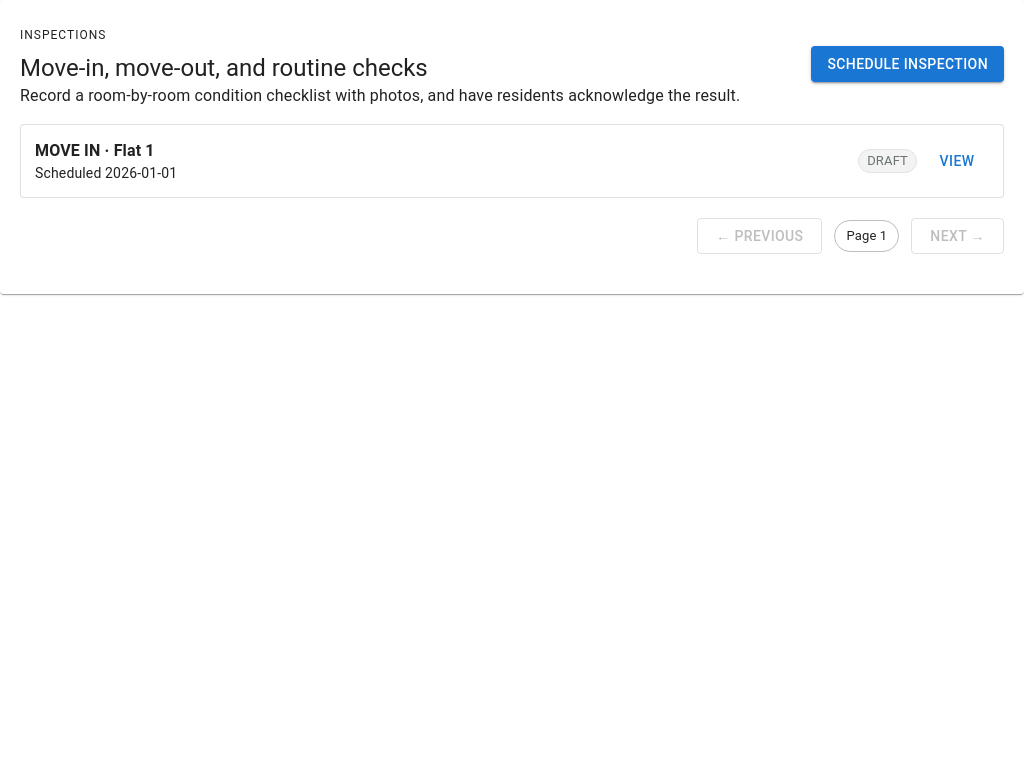
Test: will not schedule an inspection without a space or date
The width and height of the screenshot is (1024, 768).
Click the button "Schedule inspection" at (908, 64), box [811, 46, 1004, 82]
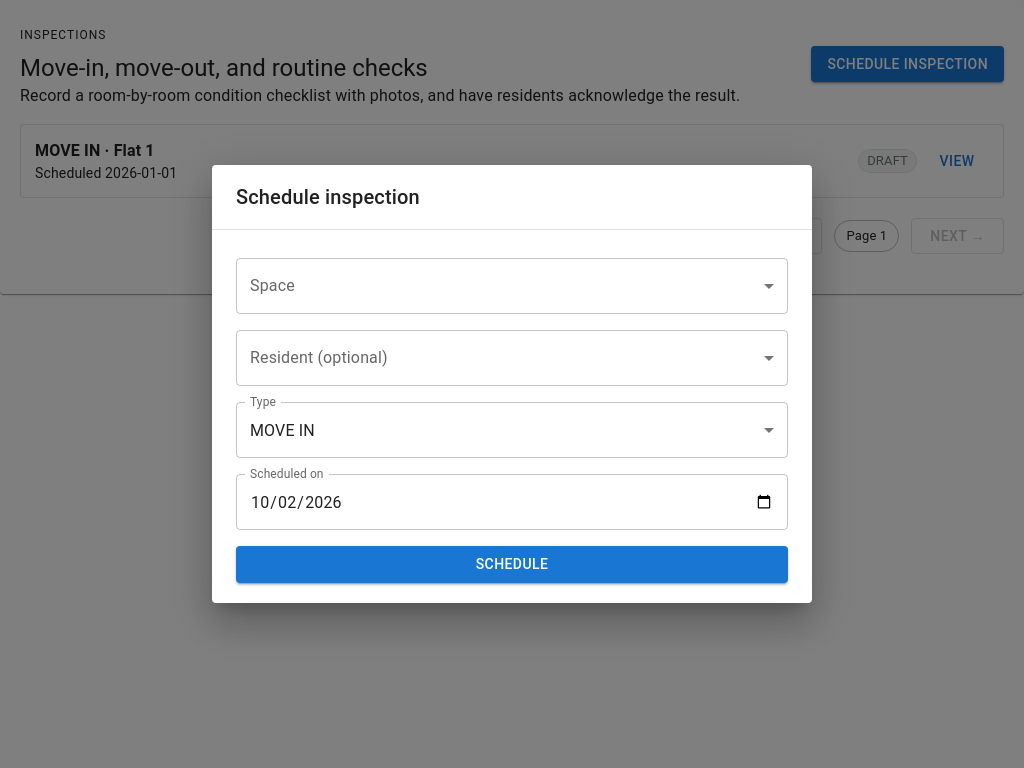
Clear the date field labelled "Scheduled on" at (512, 502), box [236, 474, 788, 530]
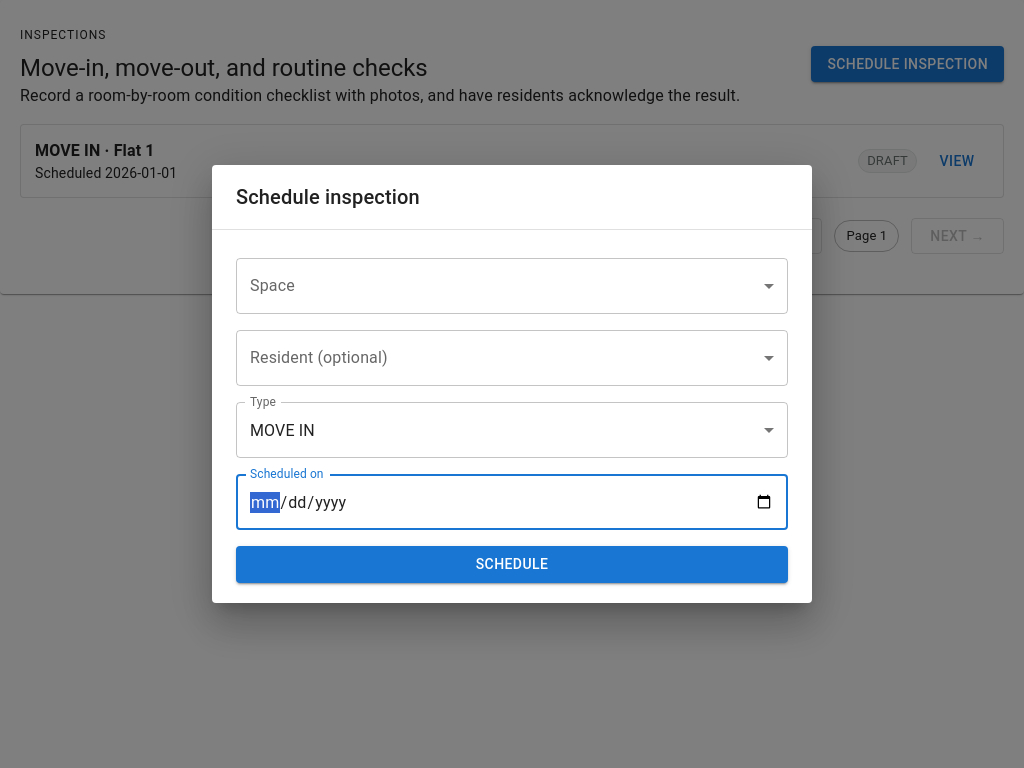
Click the button "Schedule" at (512, 565), box [236, 546, 788, 583]
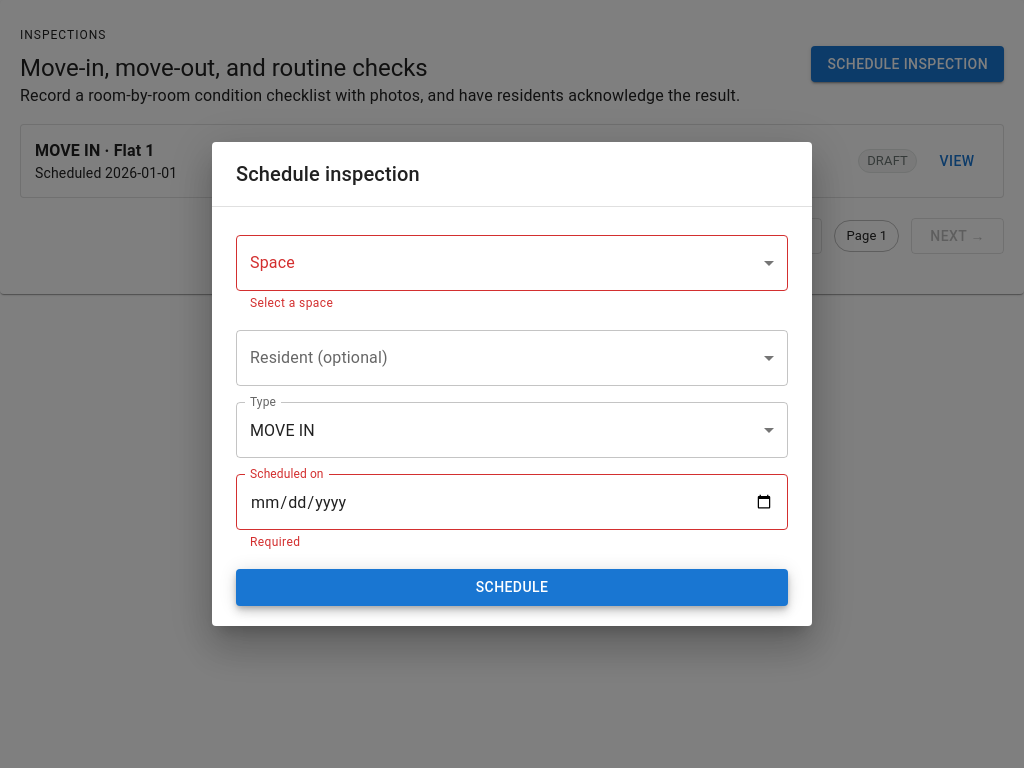
expect the text "Select a space" is shown: met, box [250, 296, 333, 310]
expect the text "Required" is shown: met, box [250, 535, 300, 549]
